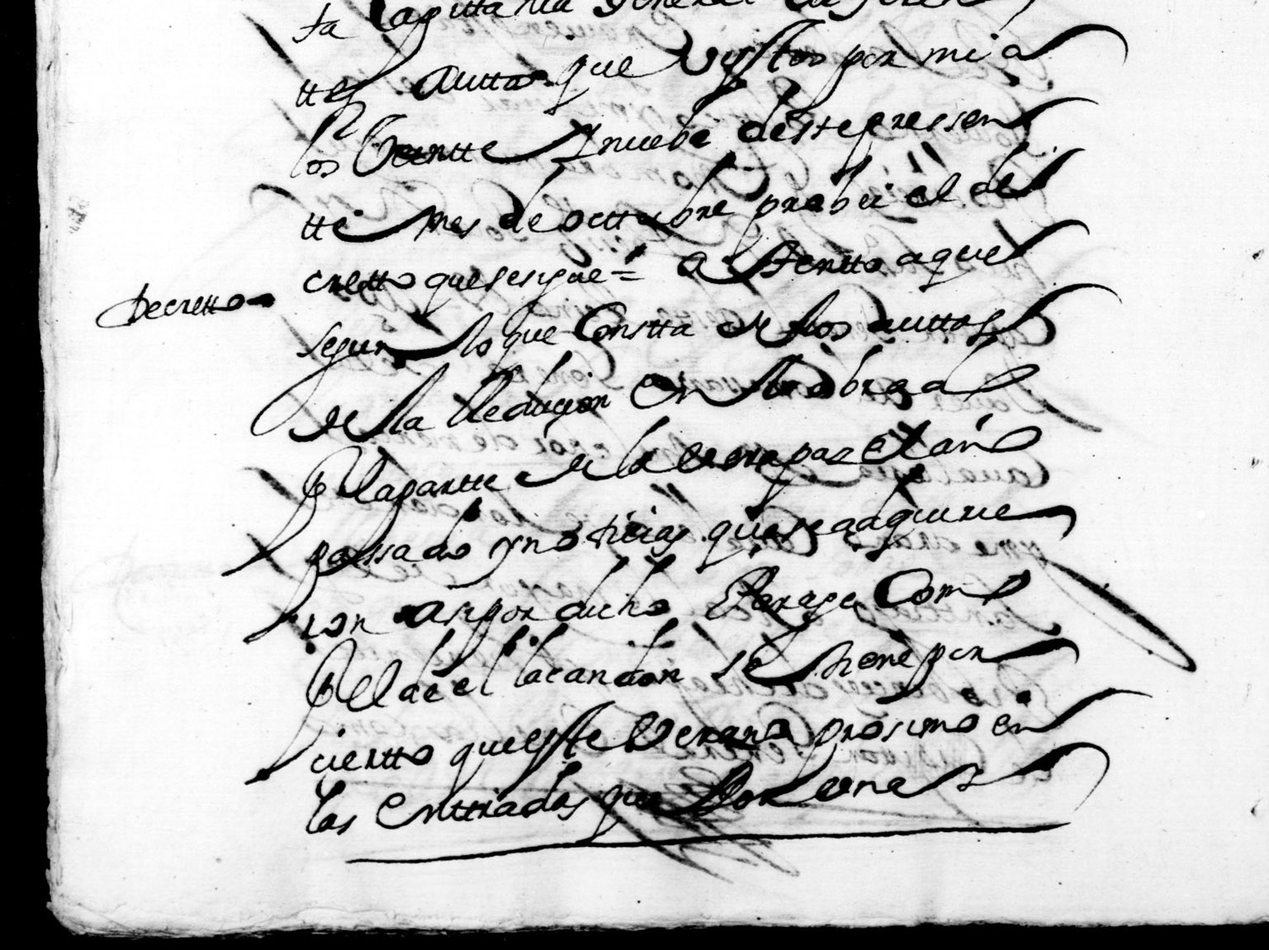lacandon: (514, 617, 684, 688)
